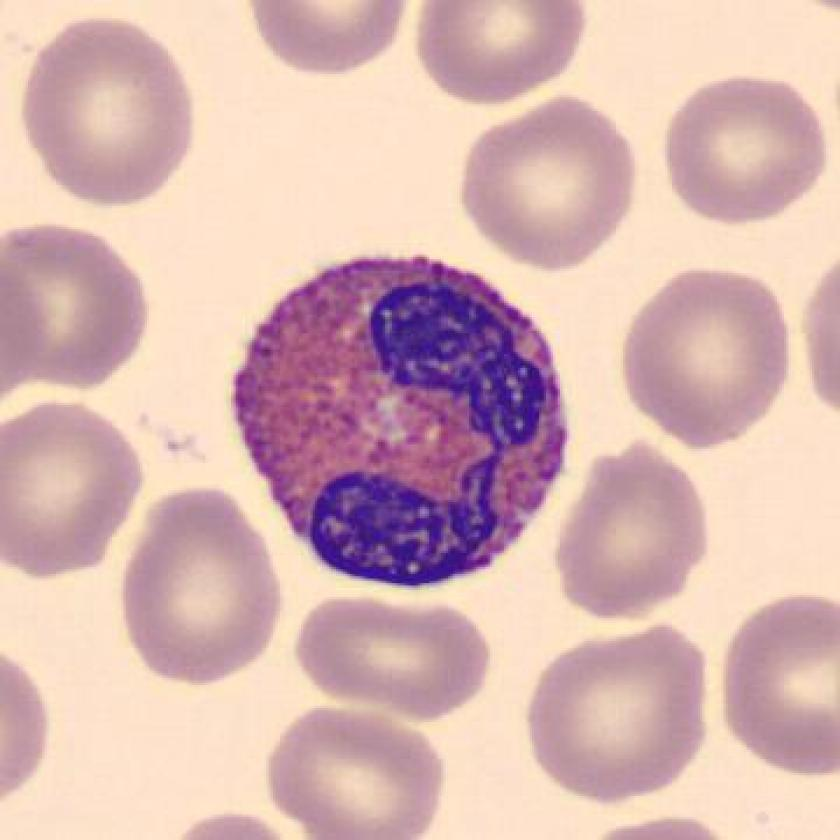eosinophil: (211, 235, 570, 624)
